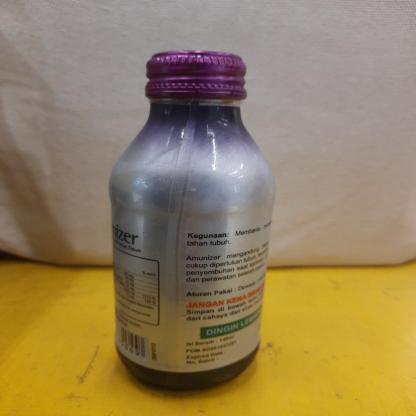glass: (103, 46, 277, 401)
